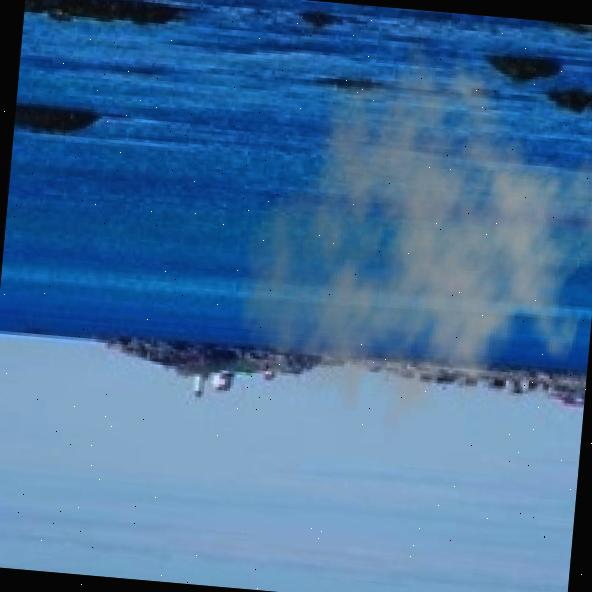smoke: (222, 21, 592, 475)
